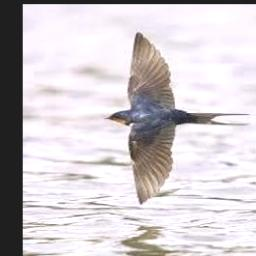Swallow: (106, 32, 252, 205)
